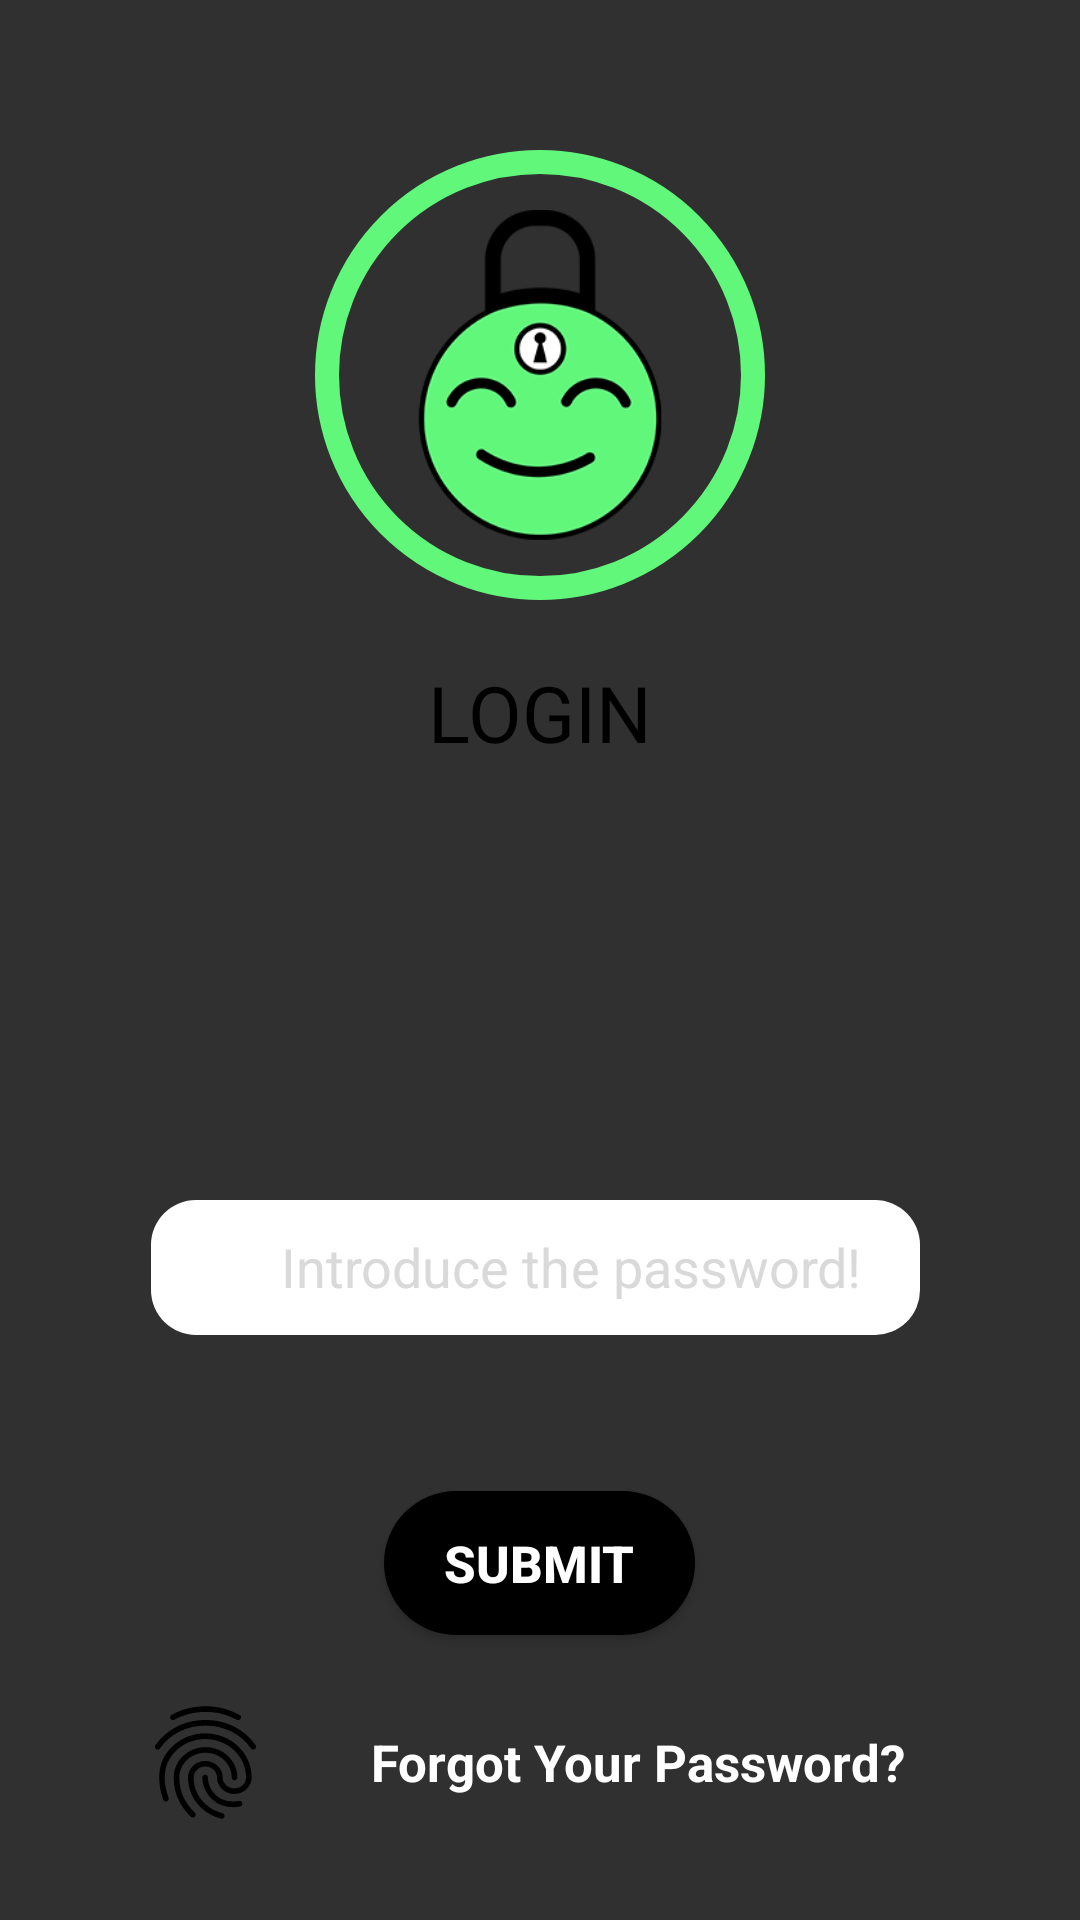

Where to tap for icons on this 1080*1920 app screen, as [x,y]:
fingerprint icon: [205,1762]
